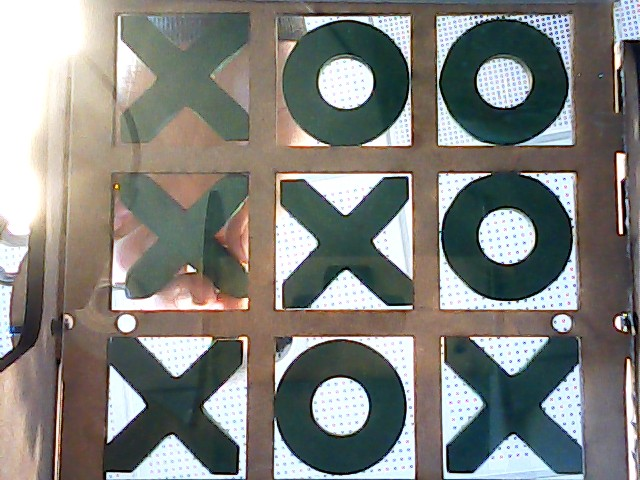O: (275, 338, 411, 477), (440, 177, 578, 304), (275, 14, 409, 144), (436, 19, 570, 144)
X: (105, 335, 250, 480), (441, 336, 584, 478), (109, 174, 250, 309), (278, 171, 415, 307), (115, 14, 252, 143)
